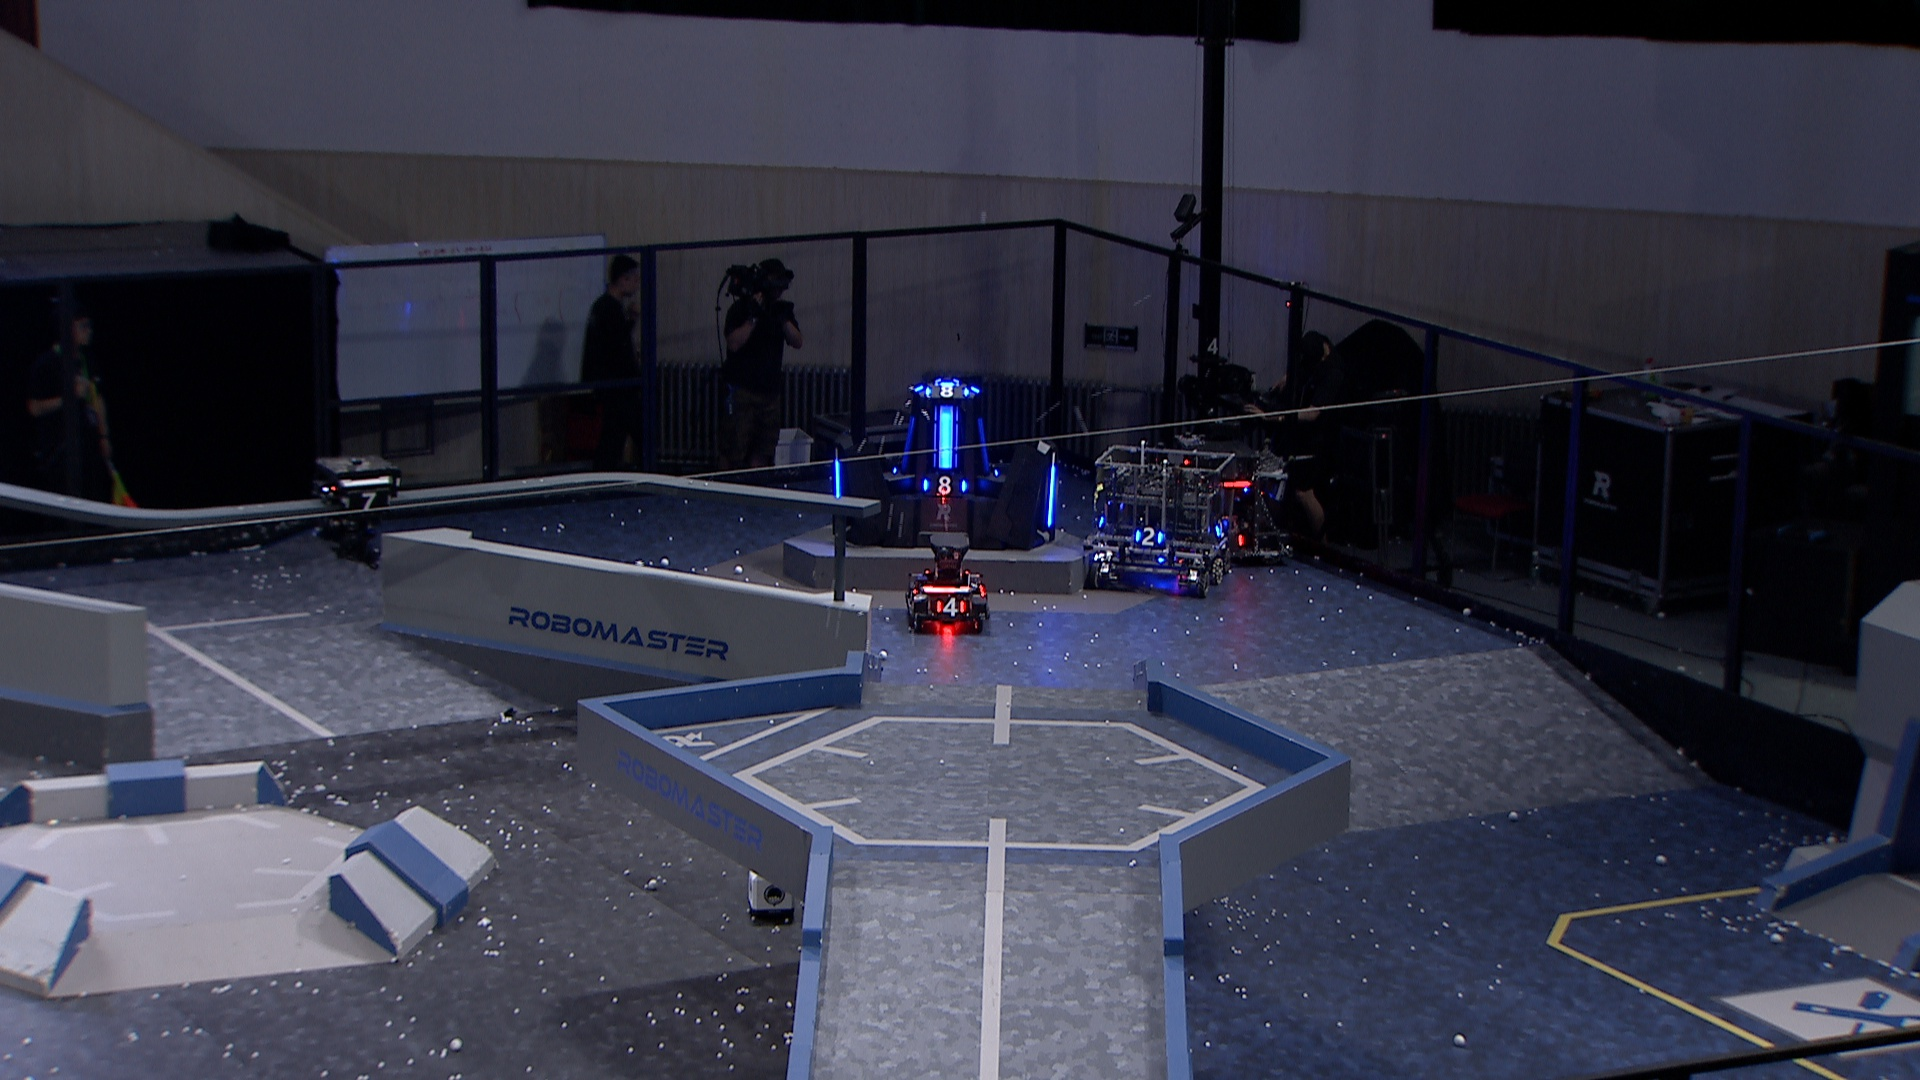armor: (340, 491, 394, 516), (938, 405, 956, 471), (899, 414, 918, 471), (922, 475, 969, 496), (923, 380, 971, 400), (975, 418, 992, 469), (1134, 524, 1167, 550), (1044, 463, 1058, 527), (935, 595, 969, 618), (832, 460, 844, 501), (1215, 518, 1232, 541)
base: (832, 377, 1060, 553)
car: (1084, 440, 1238, 603), (1172, 433, 1292, 564), (906, 531, 992, 633)
watcher: (311, 452, 404, 574)
